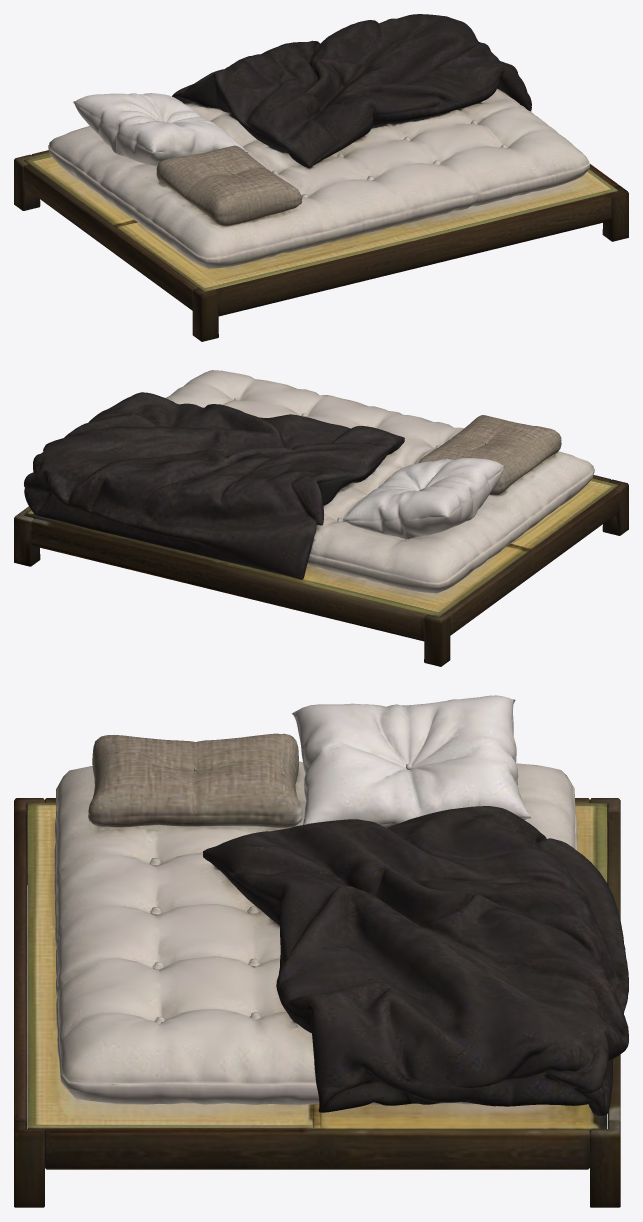
The model's file is cama.glb.
3 renders of one model, top to bottom at view 1: azimuth 30°, elevation 25°; view 2: azimuth 150°, elevation 25°; view 3: azimuth 270°, elevation 25°, orthographic. The views are drawn at different scales.
Visible parts, largest first — view 1: tripo_node_cb2b9fd9-0af7-4a26-9d5c-4186f487ee3a; view 2: tripo_node_cb2b9fd9-0af7-4a26-9d5c-4186f487ee3a; view 3: tripo_node_cb2b9fd9-0af7-4a26-9d5c-4186f487ee3a.
Boxes of the visible parts, box(x1,y1,x2,y2) form: tripo_node_cb2b9fd9-0af7-4a26-9d5c-4186f487ee3a: box(14, 14, 628, 341); tripo_node_cb2b9fd9-0af7-4a26-9d5c-4186f487ee3a: box(14, 370, 628, 666); tripo_node_cb2b9fd9-0af7-4a26-9d5c-4186f487ee3a: box(14, 695, 628, 1207).
Size of the model in its own units: 0.9995 by 0.2856 by 0.7681.
Materials: 1 (1 with a texture image).
